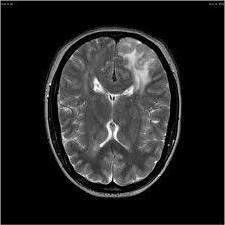Normal_Brain: (25, 8, 213, 225)
